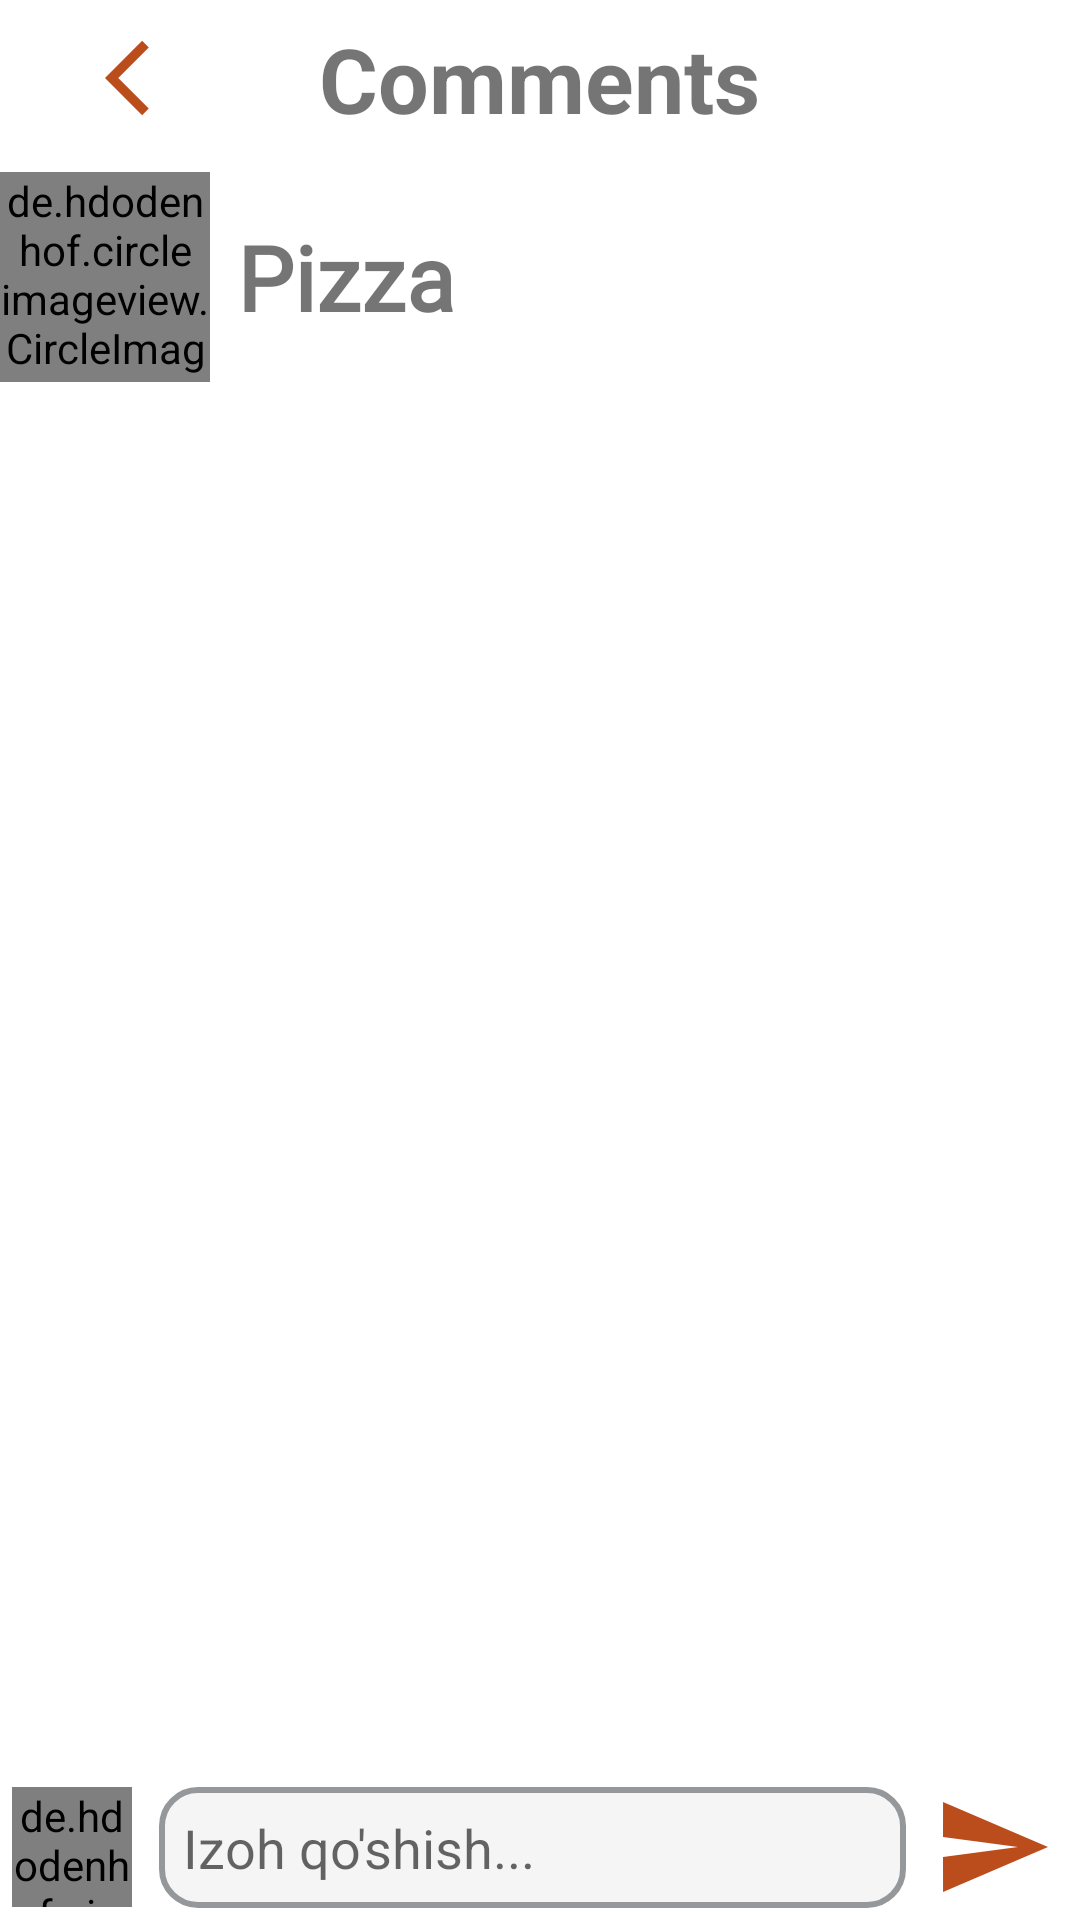

Named icons in this screenshot (1080px×1920px) and their bounding boxes, BBox(x1, y1, x2, y2):
arrow back: BBox(105, 41, 149, 115)
send: BBox(943, 1802, 1048, 1892)
